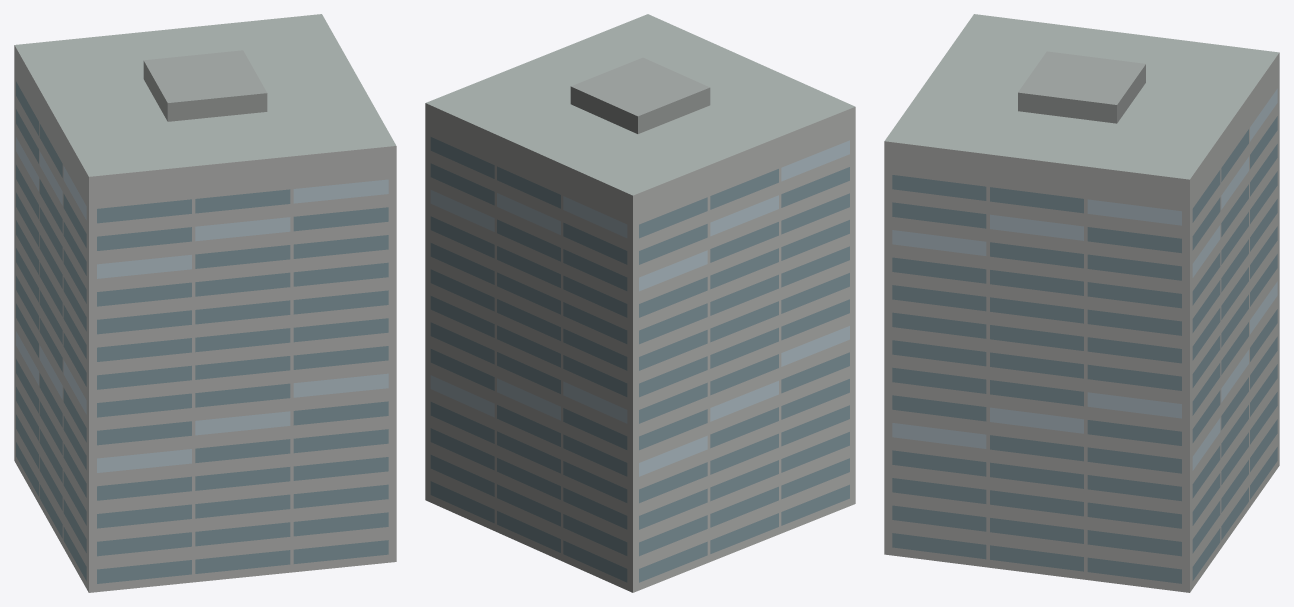
Rendered from fallback-olympic-park-foreon-318.glb.
3 views of the same model, side by side, from view 1: azimuth 30°, elevation 25°; view 2: azimuth 150°, elevation 25°; view 3: azimuth 270°, elevation 25° (orthographic). The views are drawn at different scales.
Visible parts, largest first — view 1: fallback-olympic-park-foreon-318; view 2: fallback-olympic-park-foreon-318; view 3: fallback-olympic-park-foreon-318.
Boxes of the visible parts, x1,y1,x2,y2 form: fallback-olympic-park-foreon-318: (14,14,396,592); fallback-olympic-park-foreon-318: (425,14,855,592); fallback-olympic-park-foreon-318: (884,14,1279,592).
Bounding box in the file's own units: 39.32 × 47.81 × 39.64.
